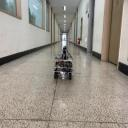cart: (53, 56, 73, 80)
